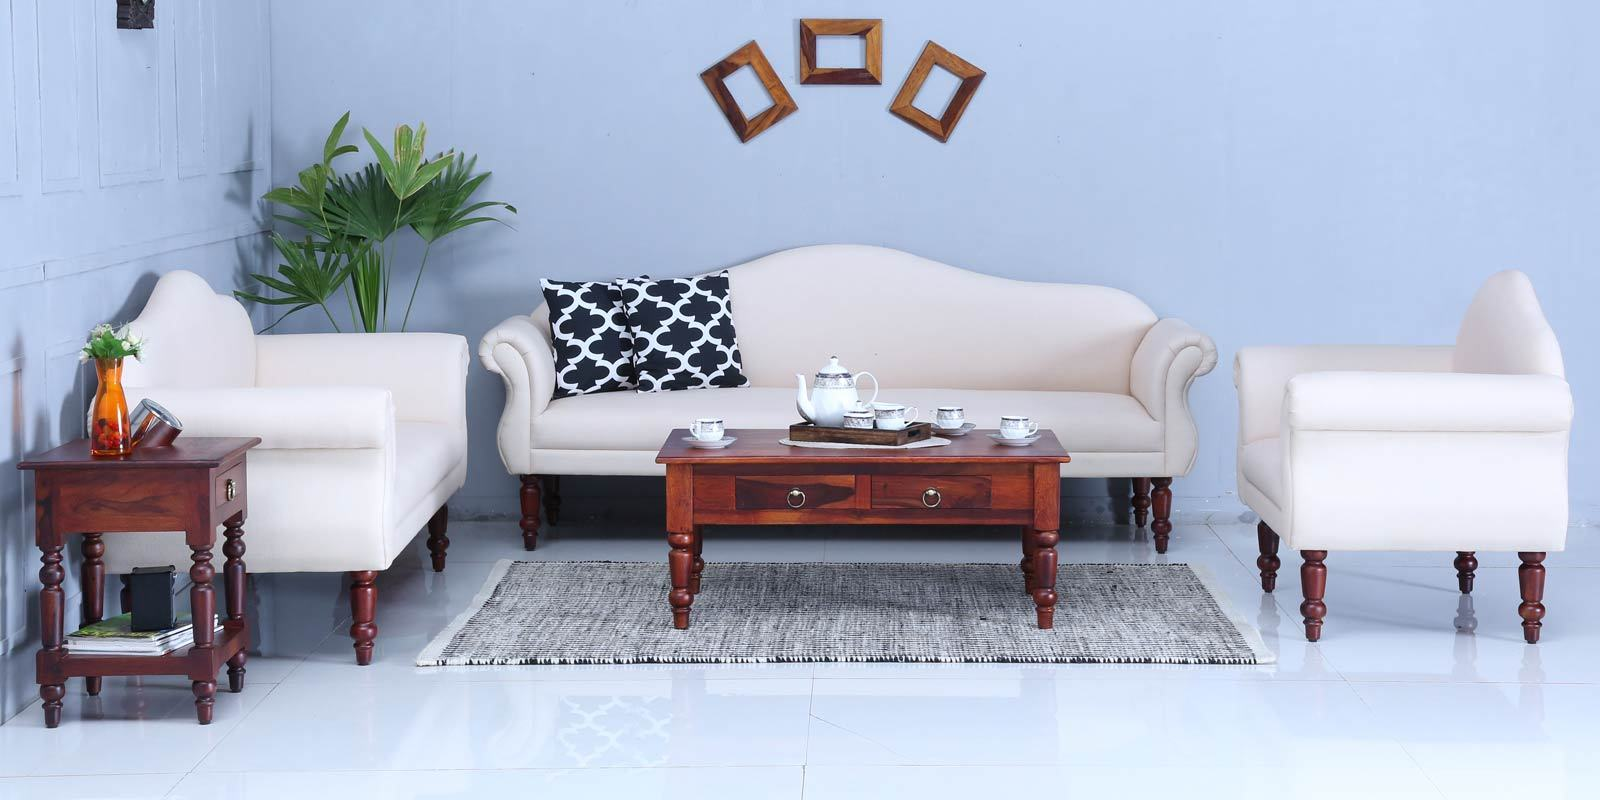Harleston Three Seater Sofa in Honey Oak Finish by Amberville: (469, 235, 1216, 564), (102, 261, 484, 669), (1226, 261, 1582, 666)
